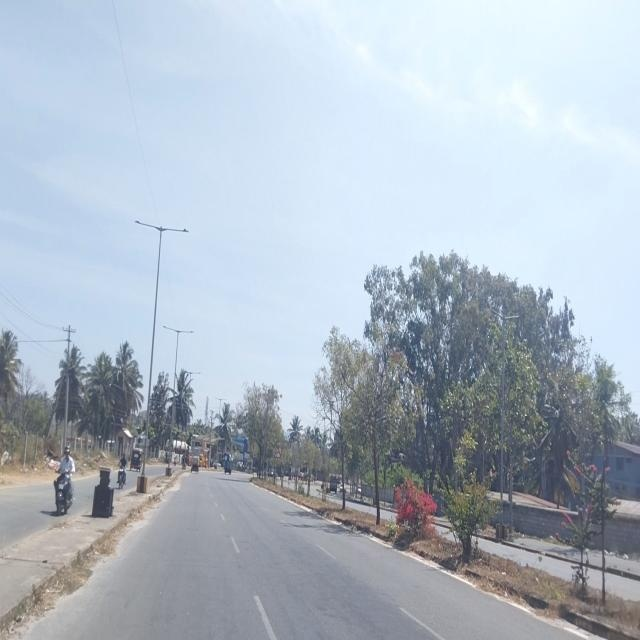bien_nguy_hiem: (273, 446, 282, 459)
